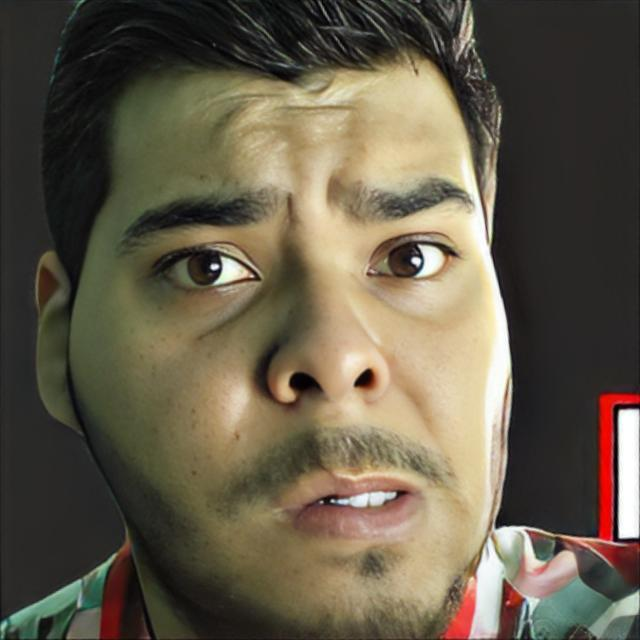fear: (72, 51, 520, 640)
